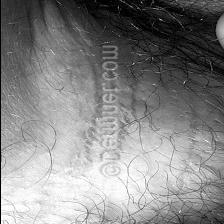Toxin: (69, 42, 99, 168), (119, 69, 136, 159)
